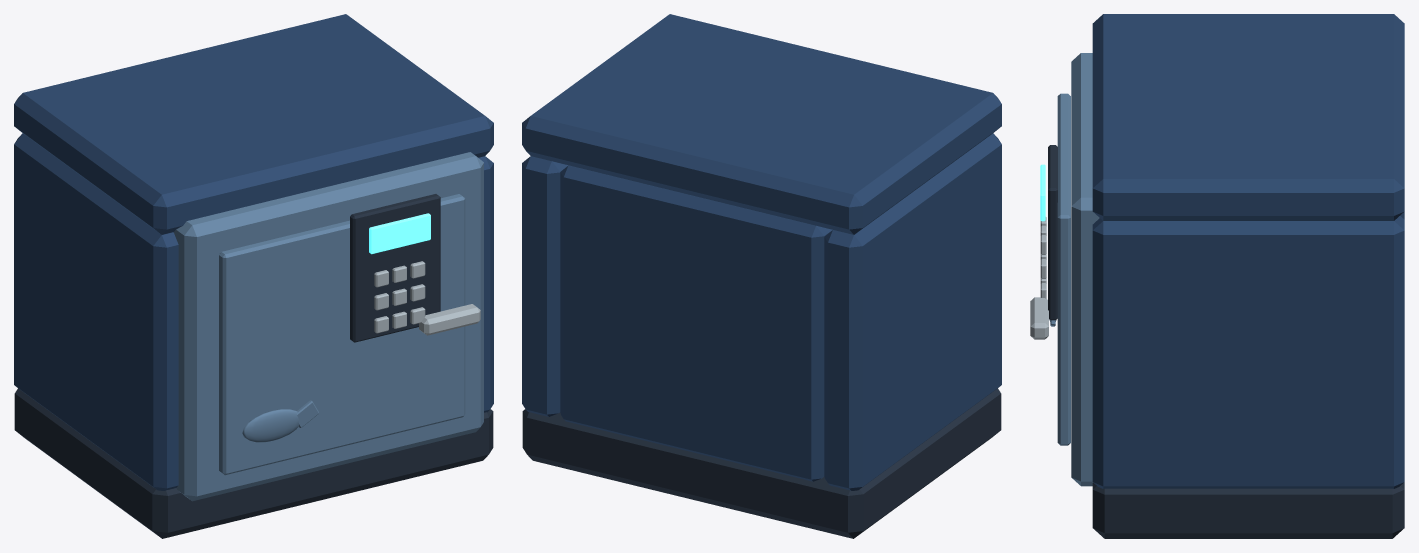
File: safes_01.glb
The picture shows the model from 3 angles, left to right: view 1: azimuth 30°, elevation 25°; view 2: azimuth 150°, elevation 25°; view 3: azimuth 270°, elevation 25°; orthographic projection. The views are drawn at different scales.
Parts seen in each view (by area): view 1: Top, Side (×2), InsetPanel, DoorPanel, Base, KeypadPanel, TinyScreen, WhaleBody, Handle; view 2: Back, Top, Side (×2), Base; view 3: Side, Top, Base, DoorPanel, InsetPanel, KeypadPanel, Handle.
Boxes of the visible parts, x1,y1,x2,y2 form: Top: (14, 14, 493, 234); Side (×2): (14, 133, 493, 490); InsetPanel: (219, 194, 465, 475); DoorPanel: (173, 152, 483, 501); Base: (14, 388, 493, 538); KeypadPanel: (350, 194, 440, 342); TinyScreen: (369, 213, 430, 254); WhaleBody: (242, 409, 299, 442); Handle: (419, 304, 480, 335); Back: (560, 165, 832, 481); Top: (522, 14, 1001, 234); Side (×2): (522, 133, 1001, 490); Base: (522, 388, 1001, 538); Side: (1092, 216, 1404, 488); Top: (1092, 14, 1404, 220); Base: (1092, 482, 1404, 538); DoorPanel: (1071, 53, 1099, 486); InsetPanel: (1057, 93, 1070, 445); KeypadPanel: (1048, 145, 1057, 320); Handle: (1030, 297, 1048, 339).
Bounding box in the file's own units: 0.62 × 0.6 × 0.564.
